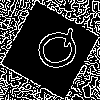Q: (25, 25, 83, 76)
